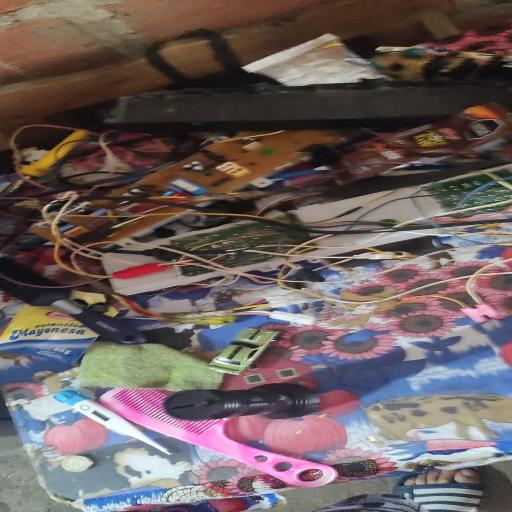Carrito: (208, 328, 280, 375)
